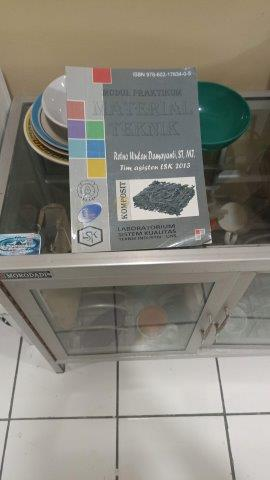kertas: (67, 67, 213, 247)
